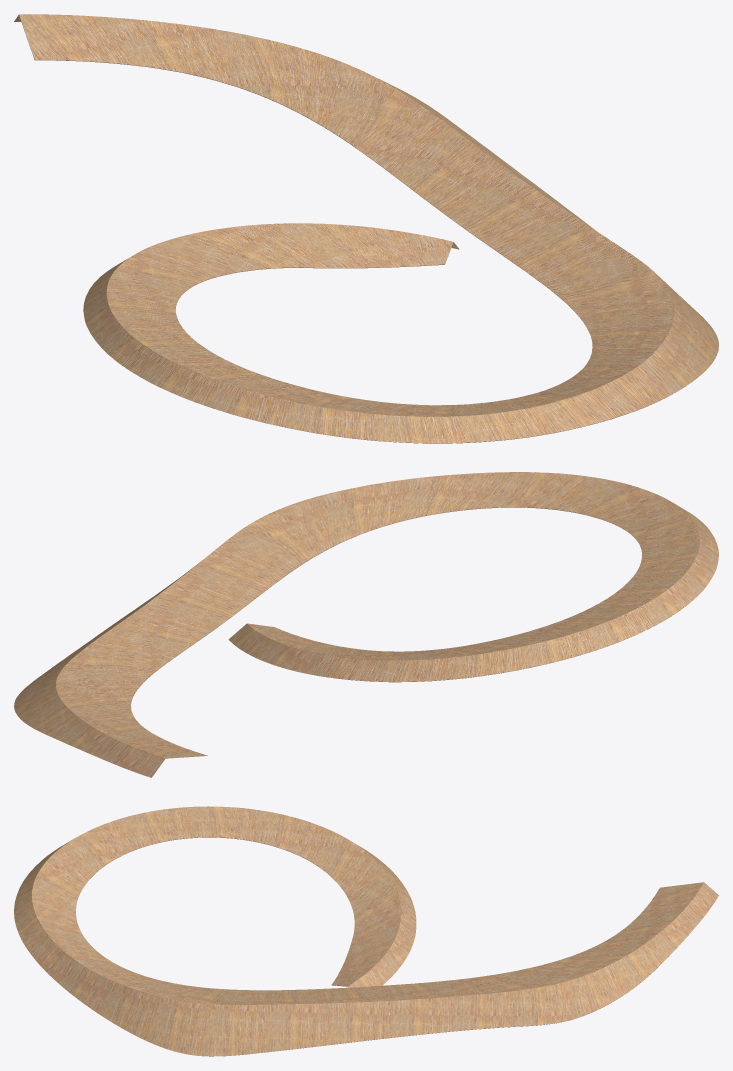
3 renders of one model, top to bottom at view 1: azimuth 30°, elevation 25°; view 2: azimuth 150°, elevation 25°; view 3: azimuth 270°, elevation 25°, orthographic. The views are drawn at different scales.
Parts seen in each view (by area): view 1: LXZ81001; view 2: LXZ81001; view 3: LXZ81001.
Part boxes in pixels (bbox=[...]): LXZ81001: bbox=[14, 14, 718, 443]; LXZ81001: bbox=[14, 472, 718, 777]; LXZ81001: bbox=[14, 806, 718, 1056].
Bounding box in the file's own units: 71.69 × 114 × 12.87.
Materials: 1 (1 with a texture image).
